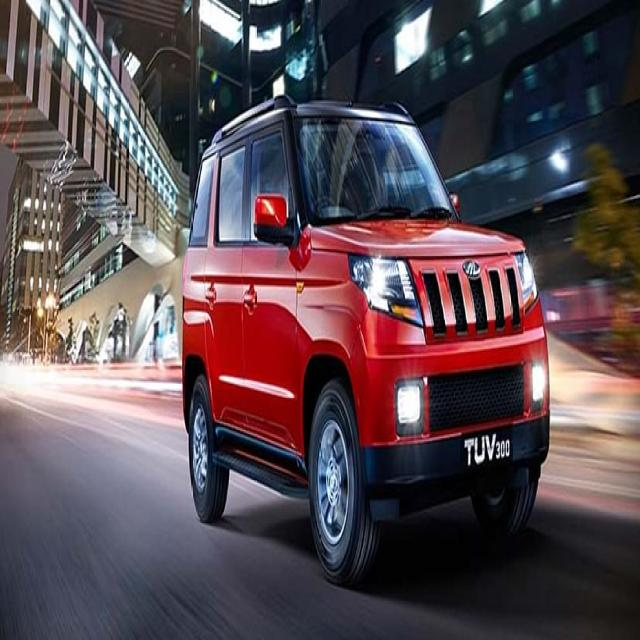light_vehicle: (177, 95, 549, 601)
